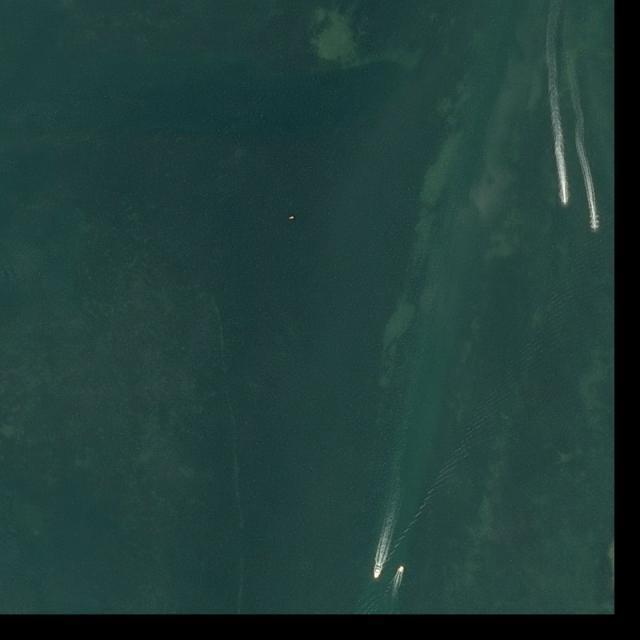ship: (372, 564, 382, 581), (398, 565, 405, 574), (288, 216, 296, 220), (563, 202, 567, 206), (594, 226, 597, 231)
